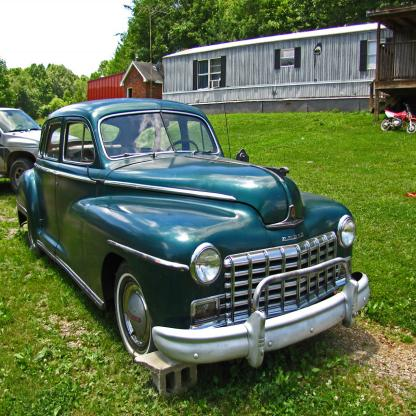Car: (16, 98, 372, 365), (1, 106, 77, 193)
